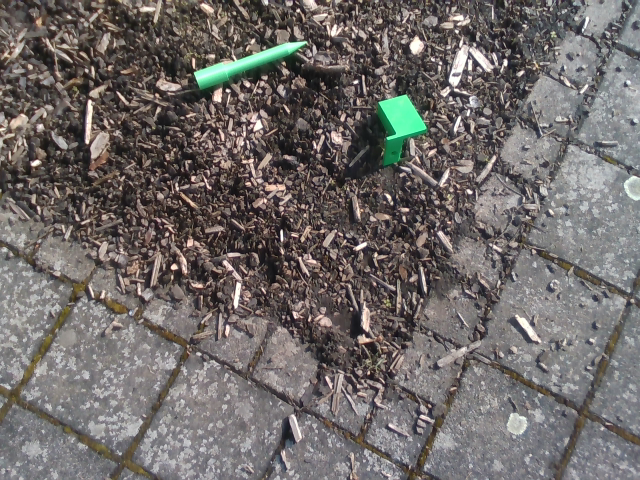Probe: (187, 35, 312, 95)
